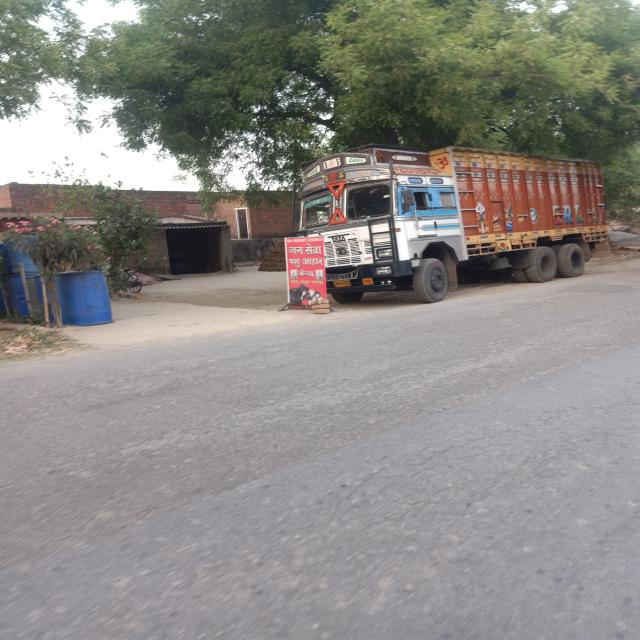Truck: (264, 141, 614, 292)
